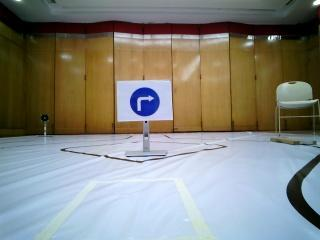right: (115, 82, 175, 122)
